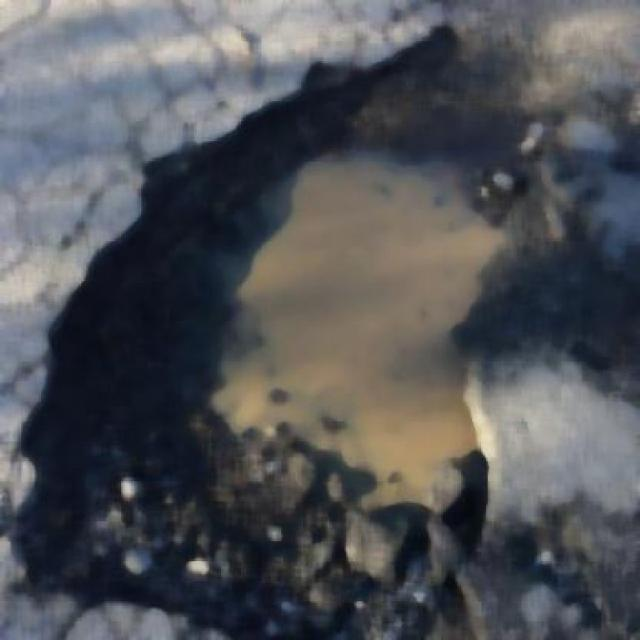Pothole: (177, 161, 478, 454)
